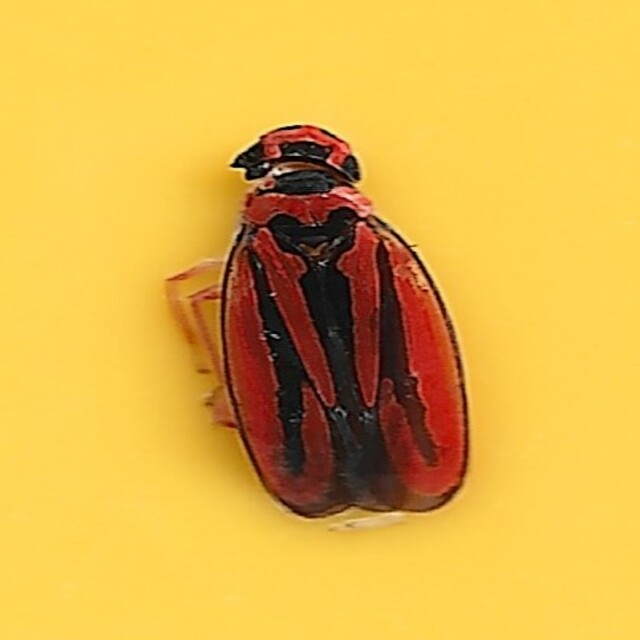Hemiptera: (159, 118, 481, 522)
